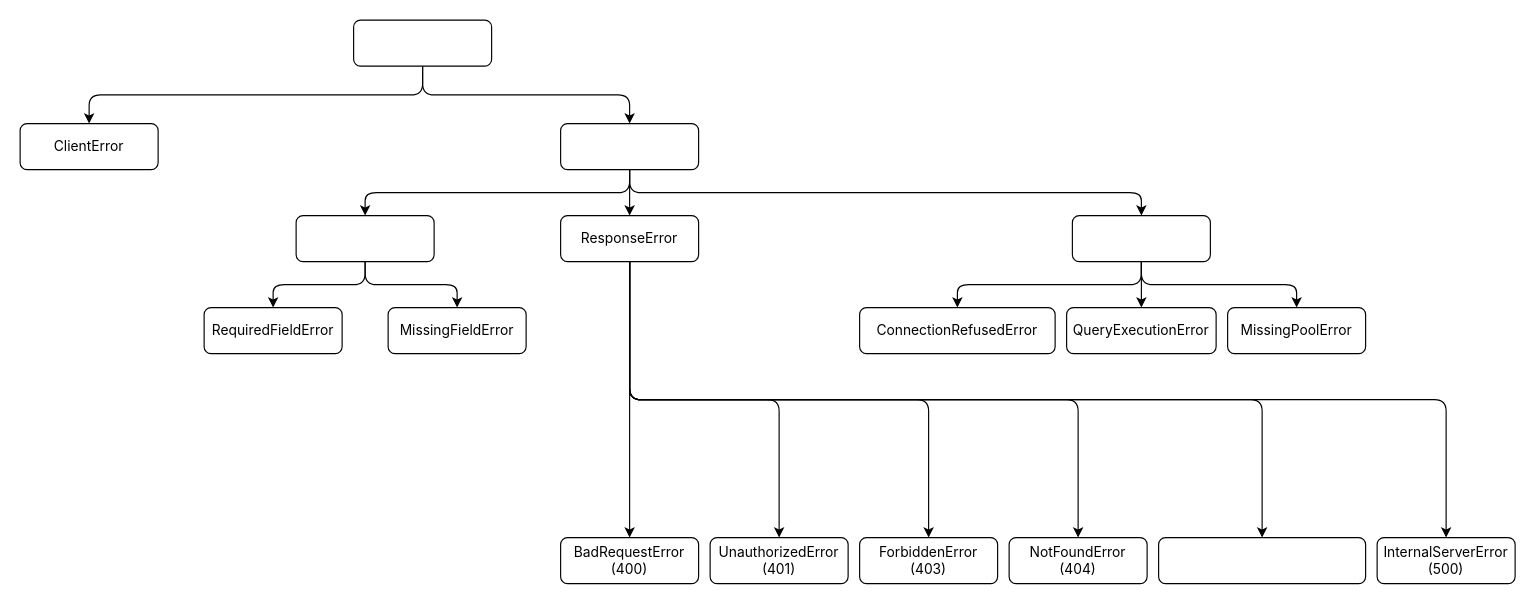
The diagram is 1535 pixels wide and 604 high, and some of its shapes have lost their labels. The shapes that lost their labels are listed below. From the top down, each one's centre as x and y in pixels, then its label:
At (x=422, y=42): "StandardError".
At (x=629, y=146): "ServerError".
At (x=364, y=238): "ValidationError".
At (x=1140, y=238): "DatabaseError".
At (x=1261, y=560): "UnsupportedMediaTypeError (415)".
